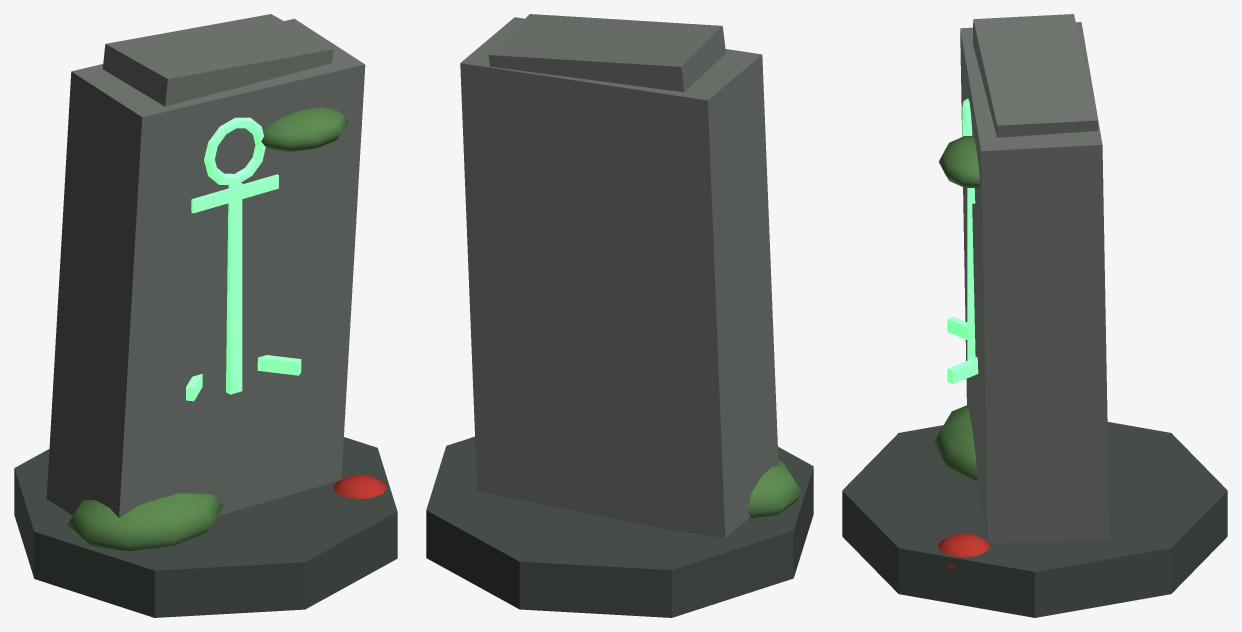
The model's file is Build_Lobby_MapStone_EmeraldForest.glb.
3 renders of one model, left to right at view 1: azimuth 30°, elevation 25°; view 2: azimuth 150°, elevation 25°; view 3: azimuth 270°, elevation 25°, orthographic. The views are drawn at different scales.
Visible parts, largest first — view 1: Build_Lobby_MapStone_EmeraldForest; view 2: Build_Lobby_MapStone_EmeraldForest; view 3: Build_Lobby_MapStone_EmeraldForest.
Boxes of the visible parts, box(x1,y1,x2,y2) form: Build_Lobby_MapStone_EmeraldForest: box(14, 14, 397, 617); Build_Lobby_MapStone_EmeraldForest: box(426, 14, 813, 617); Build_Lobby_MapStone_EmeraldForest: box(842, 14, 1227, 617).
Size of the model in its own units: 3.8 by 5.27 by 3.8.
